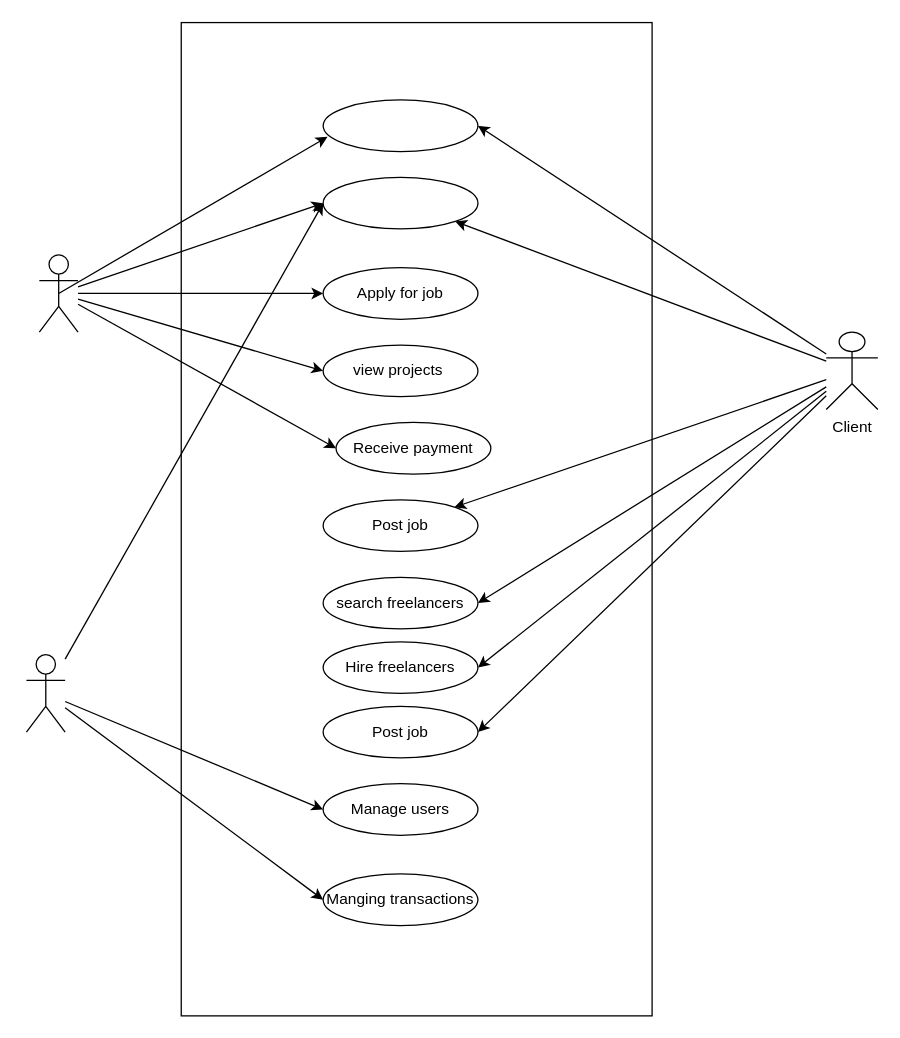
Some shapes in this 900 by 1038 pixel diagram are drawn without their labels. Each missing label, with the centre of its shape:
"Admin" goes at point (45, 692).
"Freelancer" goes at point (58, 292).
"Login" goes at point (400, 202).
"register" goes at point (400, 125).
